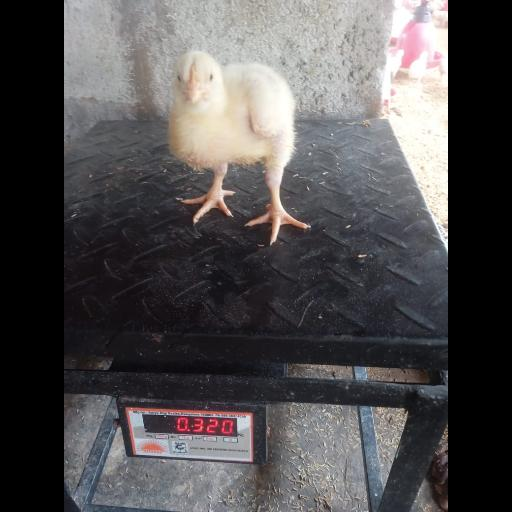chick: (168, 49, 309, 243)
